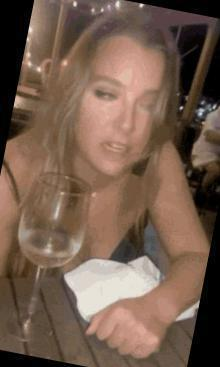Drunk: (90, 45, 163, 165)
